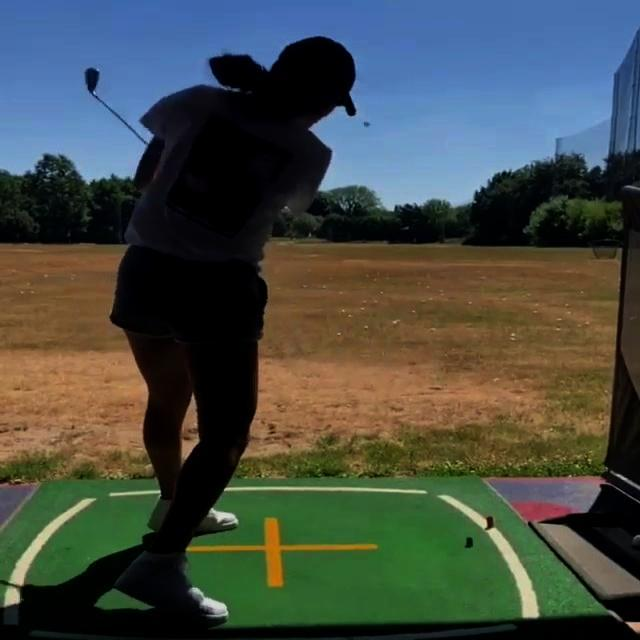golf ball: (632, 535, 640, 548)
golf club-handle: (85, 68, 149, 146)
golf club-head: (85, 69, 99, 91)
